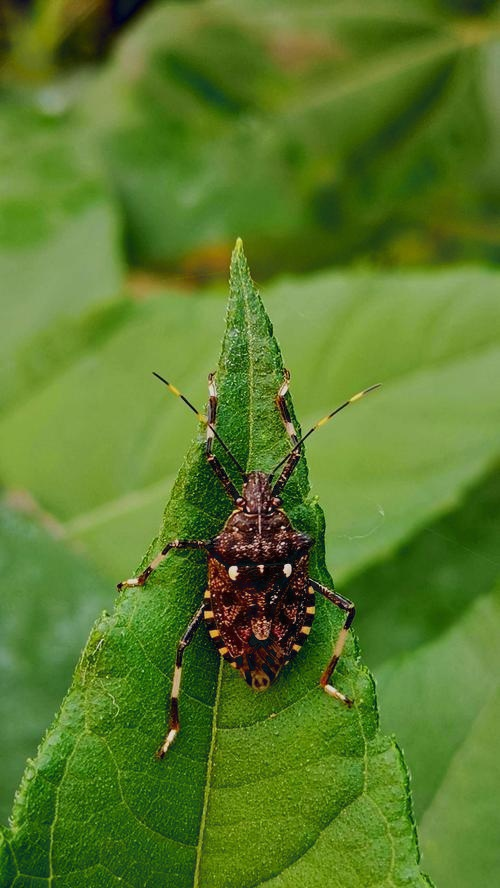Stink_Bug: (125, 411, 351, 675)
